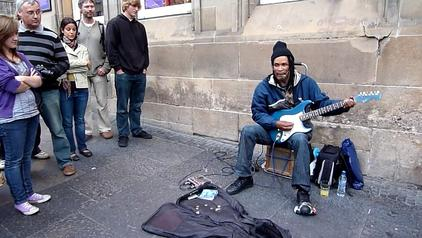down: (314, 133, 339, 201), (294, 198, 314, 215)
stay: (55, 17, 94, 157)
walk: (55, 17, 94, 157)
